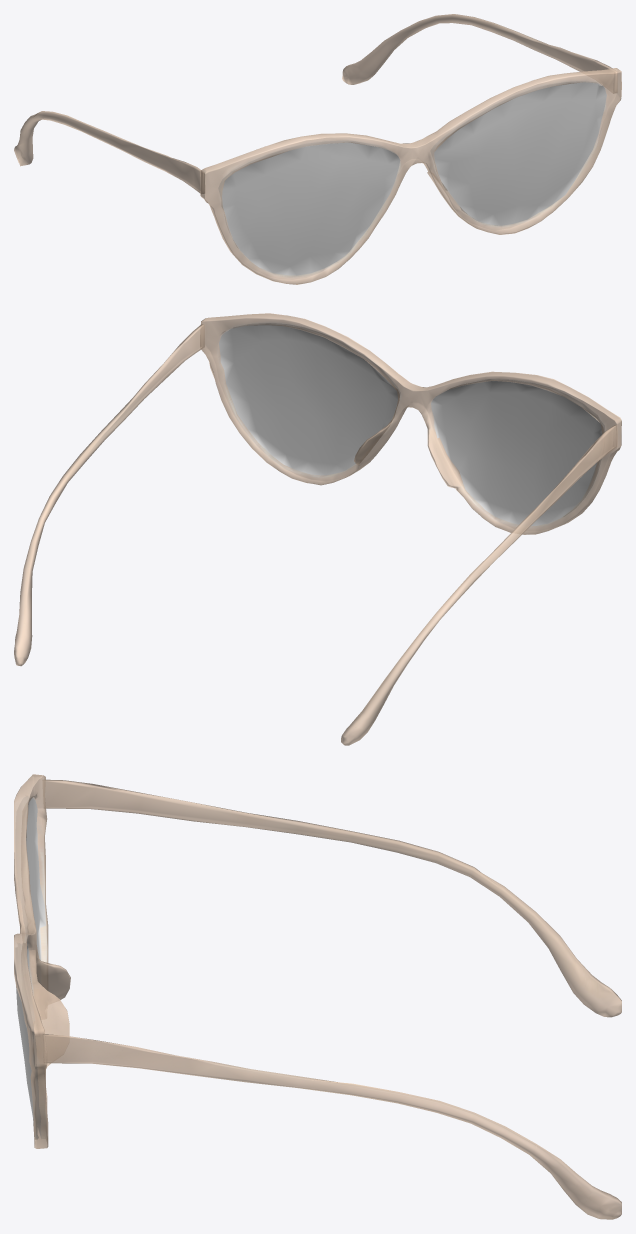
File: frame-005-translucent-pink.glb
3 renders of one model, top to bottom at view 1: azimuth 30°, elevation 25°; view 2: azimuth 150°, elevation 25°; view 3: azimuth 270°, elevation 25°, orthographic. The views are drawn at different scales.
Visible parts, largest first — view 1: lenses, frame_front, temple_right, temple_left; view 2: lenses, frame_front, temple_left, temple_right; view 3: temple_left, temple_right, frame_front, lenses.
Part boxes in pixels (left/top/right/bottom): lenses: left=218, top=81, right=606, bottom=275; frame_front: left=200, top=68, right=621, bottom=284; temple_right: left=342, top=14, right=616, bottom=90; temple_left: left=14, top=111, right=203, bottom=193; lenses: left=219, top=323, right=604, bottom=525; frame_front: left=200, top=313, right=621, bottom=534; temple_left: left=341, top=425, right=617, bottom=745; temple_right: left=14, top=324, right=204, bottom=666; temple_left: left=43, top=779, right=621, bottom=1017; temple_right: left=43, top=1034, right=621, bottom=1219; frame_front: left=14, top=774, right=70, bottom=1148; lenses: left=15, top=796, right=45, bottom=1138.
Bounding box in the file's own units: 1 × 0.4248 × 1.
Materials: 2 (1 with a texture image).
